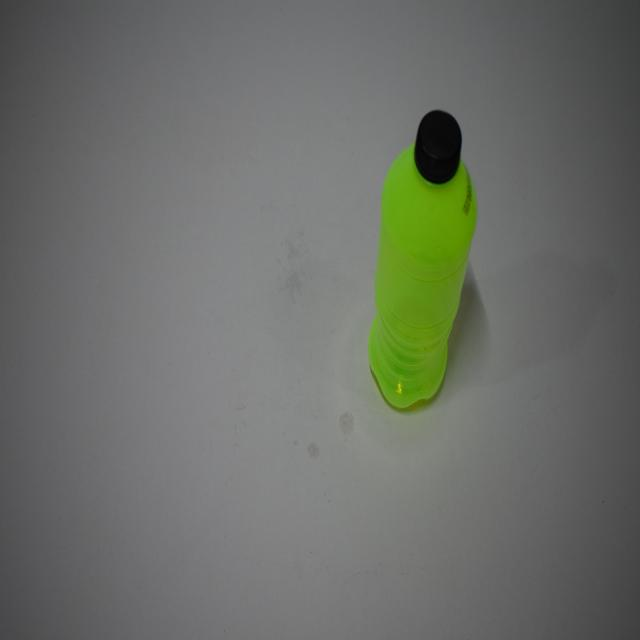high: (368, 110, 477, 408)
